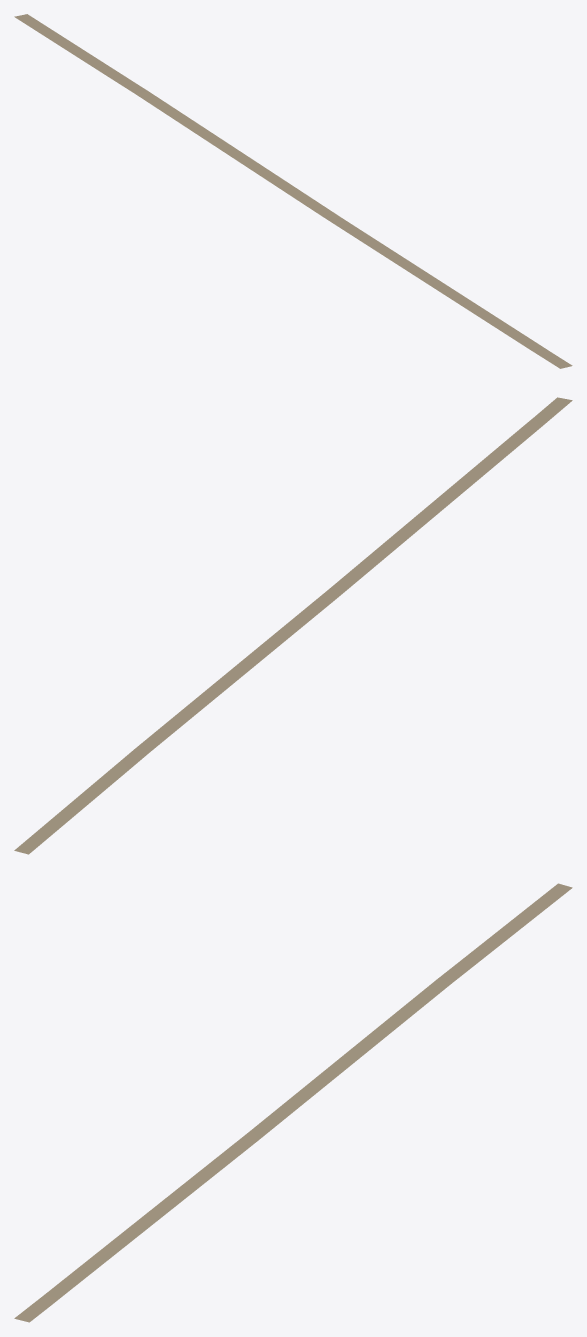
Rendered from farm_6_17_track.glb.
3 renders of one model, top to bottom at view 1: azimuth 30°, elevation 25°; view 2: azimuth 150°, elevation 25°; view 3: azimuth 330°, elevation 25°, orthographic. The views are drawn at different scales.
Parts seen in each view (by area): view 1: geometry_0; view 2: geometry_0; view 3: geometry_0.
Boxes of the visible parts, bbox=[...] form: geometry_0: bbox=[14, 14, 572, 368]; geometry_0: bbox=[14, 397, 572, 854]; geometry_0: bbox=[14, 883, 572, 1322].
Size of the model in its own units: 13.55 by 2 by 222.
